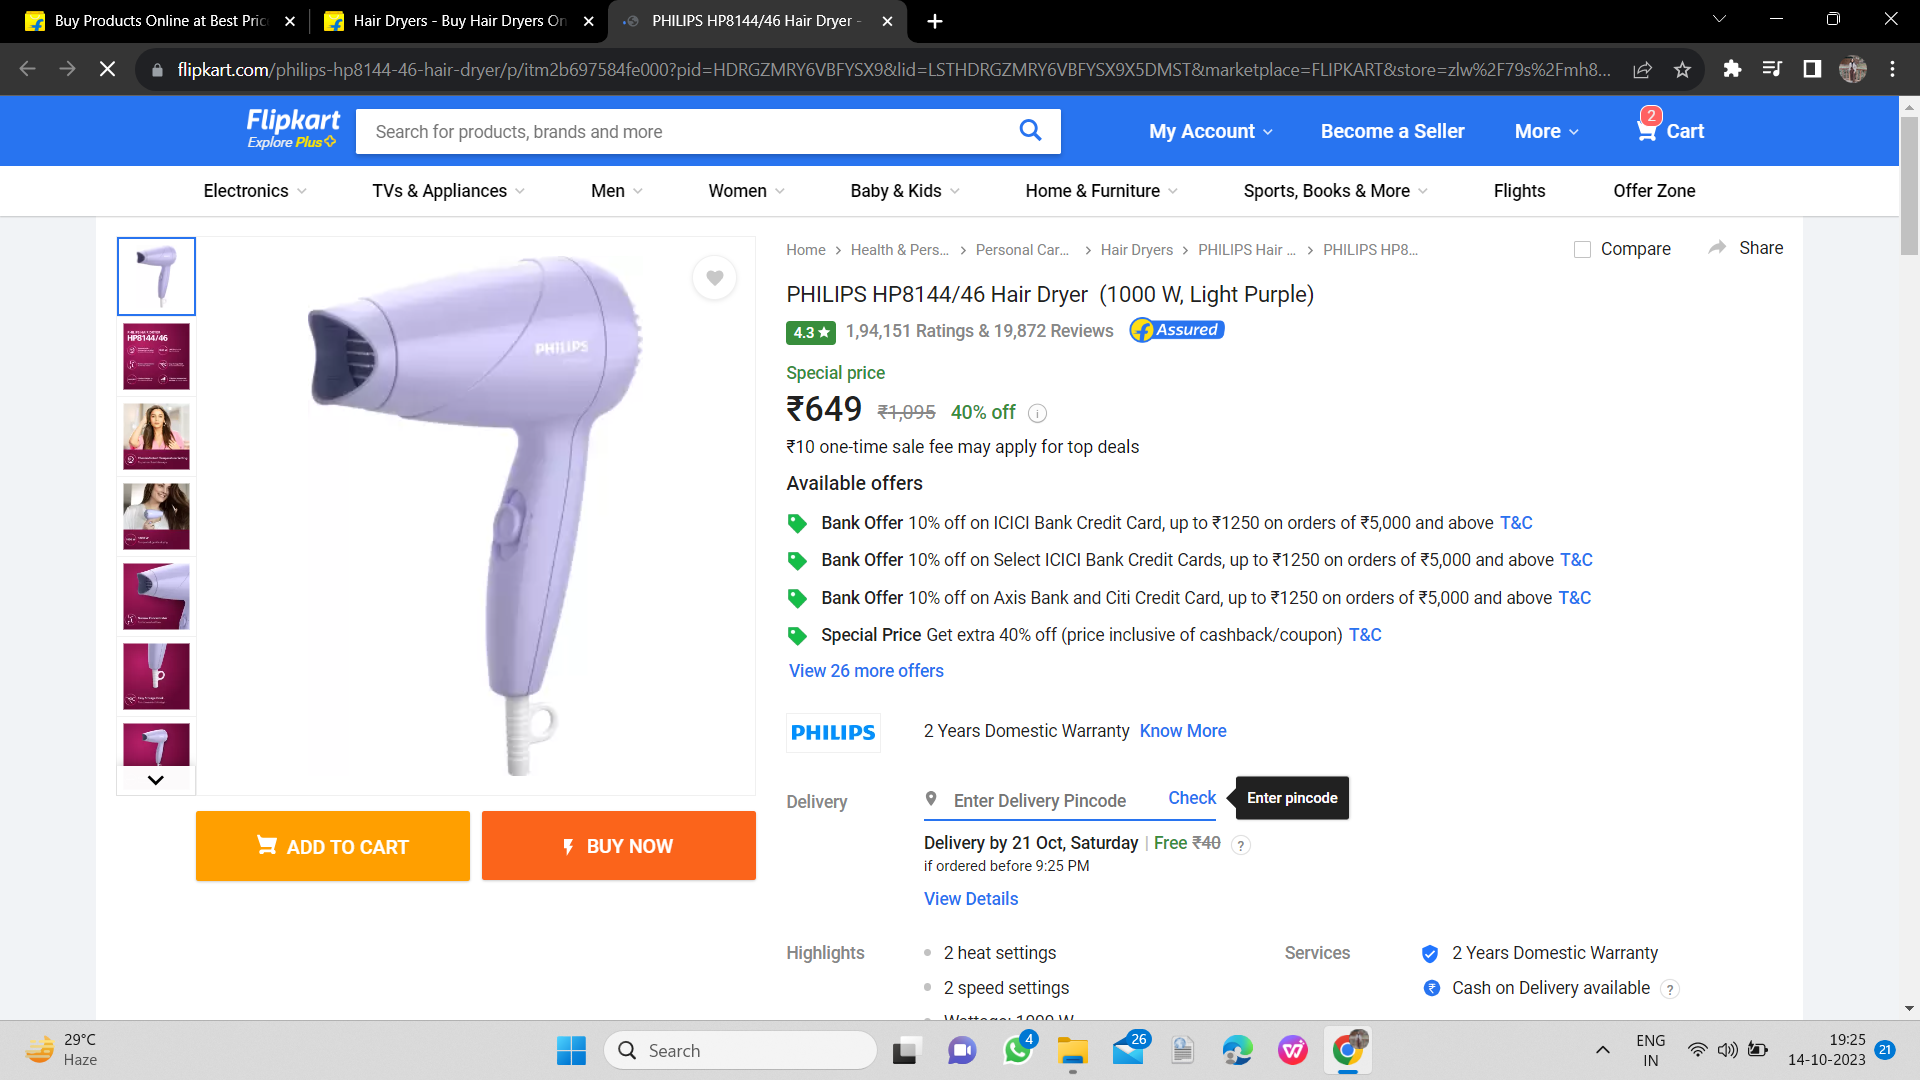Image: (237, 249, 758, 783)
Paragraph: (765, 513, 1613, 699), (171, 800, 771, 897), (1114, 99, 1724, 165), (779, 361, 1158, 462), (779, 771, 1393, 823), (775, 269, 1333, 310), (775, 311, 1251, 352), (1407, 940, 1698, 1006), (771, 713, 1244, 752), (903, 930, 1096, 1002), (907, 828, 1142, 856), (778, 472, 952, 497), (779, 935, 880, 957), (1282, 944, 1352, 968)
